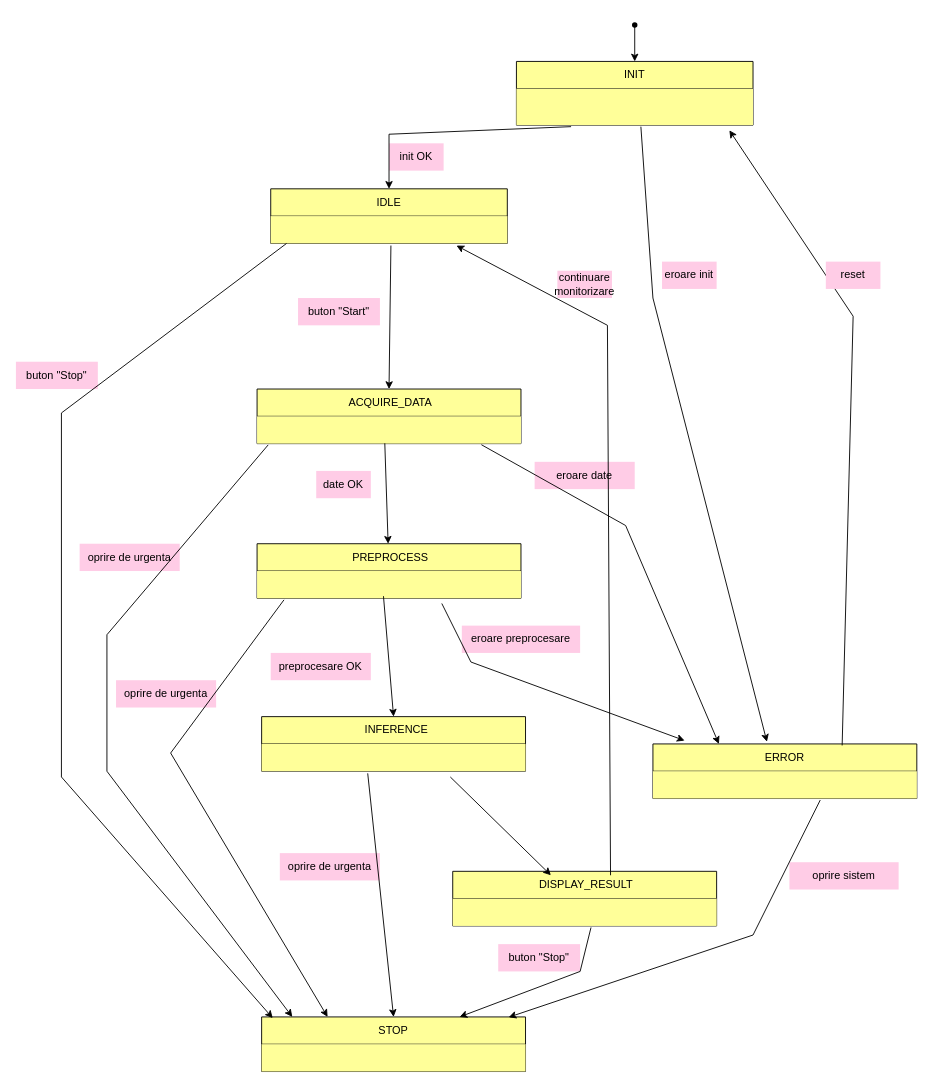
The diagram is 933 pixels wide and 1087 high, and some of its shapes have lost their labels. Here are the shapes that lost their labels. From the top down, the centre of each, then its label:
the point at 634,106: (încarcă model RN, verifică fișiere, încarcă preprocessor, pregătește UI)
the point at 388,229: (utilizatorul introduce date / așteaptă START)
the point at 389,429: (colectează input-ul utilizatorului: distanță, vreme, trafic, vehicul etc.)
the point at 389,584: (transformă datele cu preprocessor.pkl scalează + encodează categoricele)
the point at 393,757: (rulează modelul RN → estimează timpul de livrare)
the point at 784,784: (afișează mesaj și permite revenire la INIT)
the point at 584,911: (afișează timpul estimat, loghează predicția)
the point at 393,1057: (încetează app)
